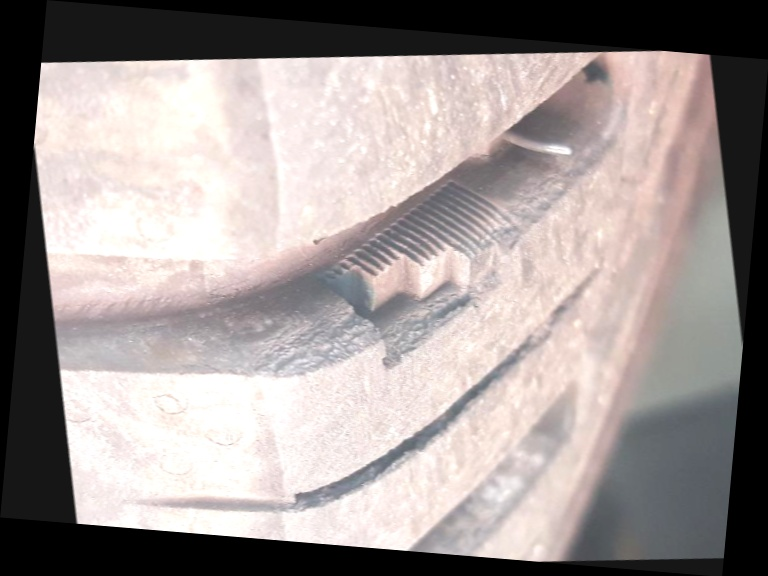temoin:80: (275, 152, 570, 406)
